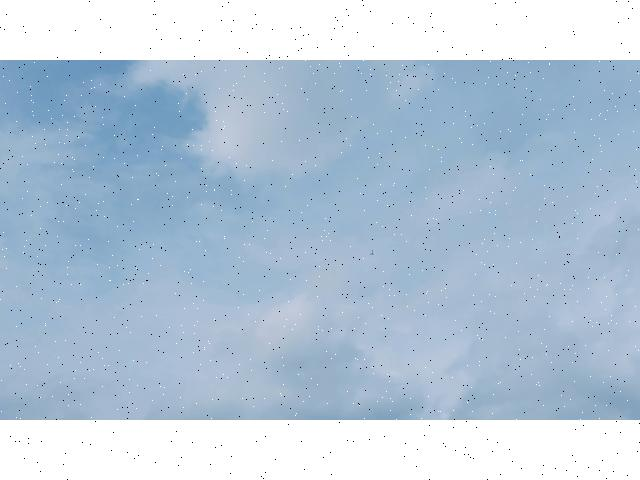Anti-Drone: (367, 249, 377, 259)
